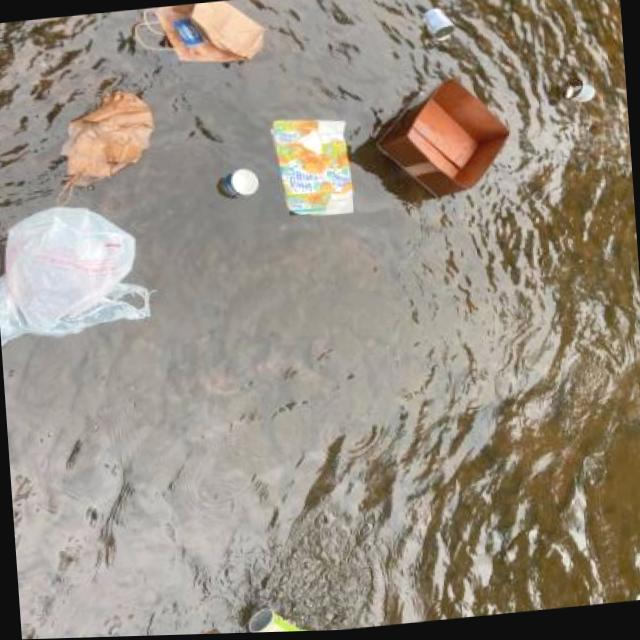Bottle-Glass: (159, 622, 237, 636)
Can-Metal: (238, 598, 325, 634)
Cardboard: (364, 68, 520, 213), (268, 110, 362, 228)
Cup: (215, 160, 271, 203), (558, 68, 603, 114), (413, 3, 460, 47)
Paper: (34, 81, 162, 209), (127, 0, 275, 81)
Plastic: (0, 190, 165, 362)
